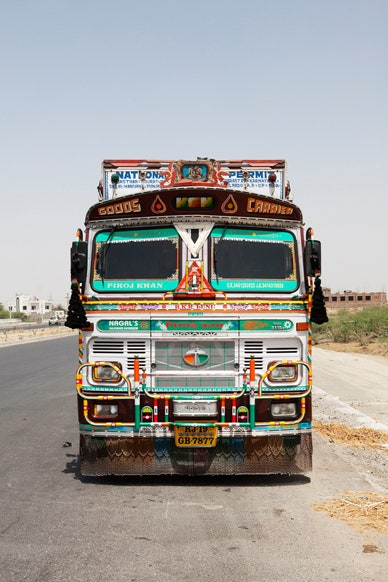truck: (76, 162, 313, 483)
